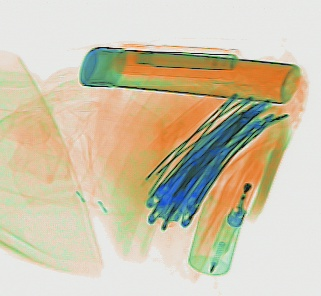lighter: (223, 153, 263, 224)
